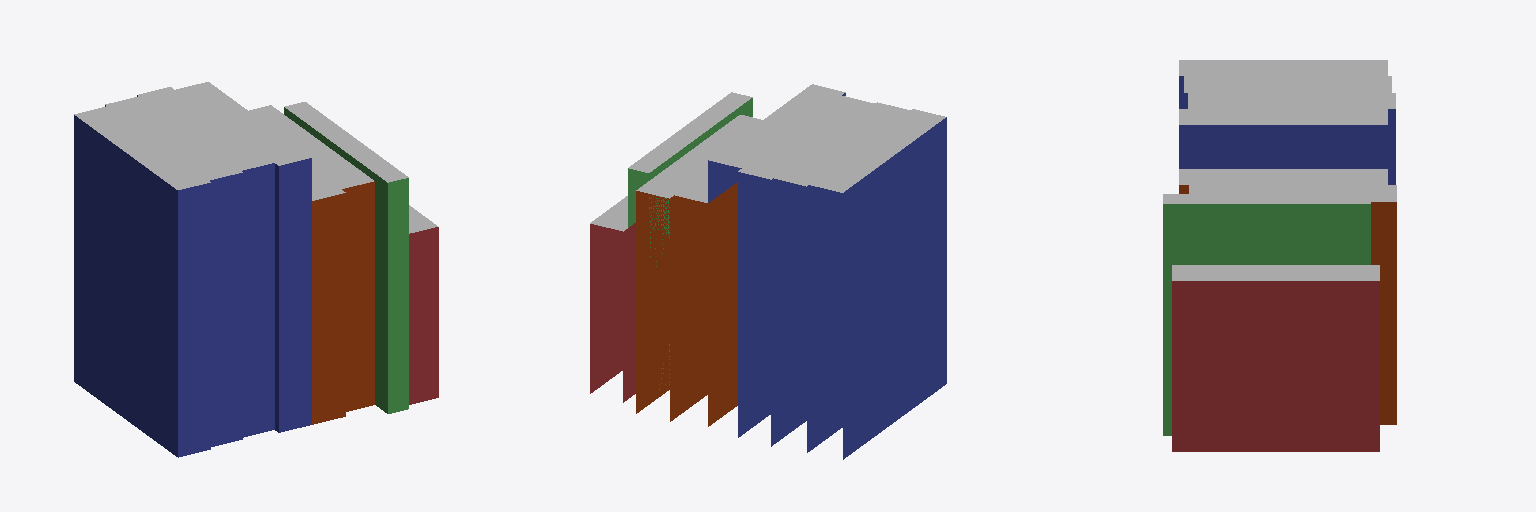
File: Books_03.obj
The picture shows the model from 3 angles: view 1: azimuth 30°, elevation 25°; view 2: azimuth 150°, elevation 25°; view 3: azimuth 270°, elevation 25°; orthographic projection.
Visible parts, largest first — view 1: Cube.016_Cube.052; view 2: Cube.016_Cube.052; view 3: Cube.016_Cube.052.
Boxes of the visible parts, x1,y1,x2,y2 form: Cube.016_Cube.052: [74, 82, 438, 457]; Cube.016_Cube.052: [590, 84, 946, 459]; Cube.016_Cube.052: [1163, 60, 1396, 451].
Size of the model in its own units: 15.27 by 15.17 by 12.02.